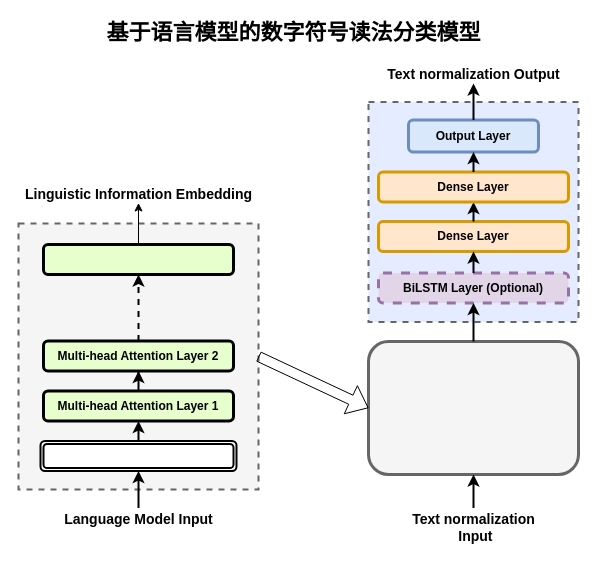
The diagram is 597 pixels wide and 562 high, and some of its shapes have lost their labels. Each missing label, with the centre of its shape:
"Embedding Layer" belongs at [138,456].
"Multi-head Attention Layer N" belongs at [138,259].
"Pre-trained Language Model" belongs at [473,408].
